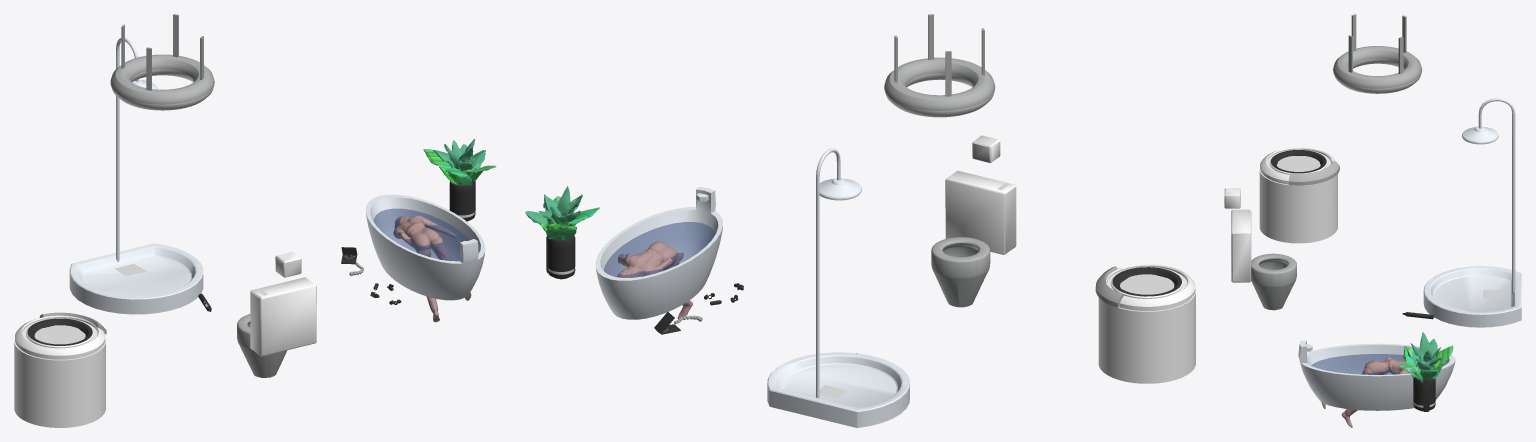
File: Bathroom.fbx
3 renders of one model, left to right at view 1: azimuth 30°, elevation 25°; view 2: azimuth 150°, elevation 25°; view 3: azimuth 270°, elevation 25°, orthographic. The views are drawn at different scales.
Visible parts, largest first — view 1: SM_WashingMachine, SM_Shower, SM_Bath, SM_Toilet, SM_Lightfixture, SM_Plant_Bathroom, SM_Girl; view 2: SM_WashingMachine, SM_Shower, SM_Bath, SM_Toilet, SM_Lightfixture, SM_Plant_Bathroom, SM_Girl; view 3: SM_WashingMachine, SM_Shower, SM_Bath, SM_Toilet, SM_Lightfixture, SM_Plant_Bathroom, SM_Girl.
Boxes of the visible parts, x1,y1,x2,y2 form: SM_WashingMachine: (14,312,106,427); SM_Shower: (69,37,203,314); SM_Bath: (365,194,485,300); SM_Toilet: (237,251,316,377); SM_Lightfixture: (110,14,214,110); SM_Plant_Bathroom: (423,139,496,221); SM_Girl: (393,215,471,322); SM_WashingMachine: (1095,264,1195,383); SM_Shower: (767,148,909,427); SM_Bath: (595,186,722,319); SM_Toilet: (931,135,1016,307); SM_Lightfixture: (884,14,995,117); SM_Plant_Bathroom: (525,186,599,279); SM_Girl: (616,241,692,319); SM_WashingMachine: (1259,147,1339,243); SM_Shower: (1423,98,1521,327); SM_Bath: (1298,340,1455,410); SM_Toilet: (1224,188,1296,310); SM_Lightfixture: (1333,14,1421,93); SM_Plant_Bathroom: (1398,332,1453,411); SM_Girl: (1321,357,1409,427).
Size of the model in its own units: 711 by 429 by 393.
